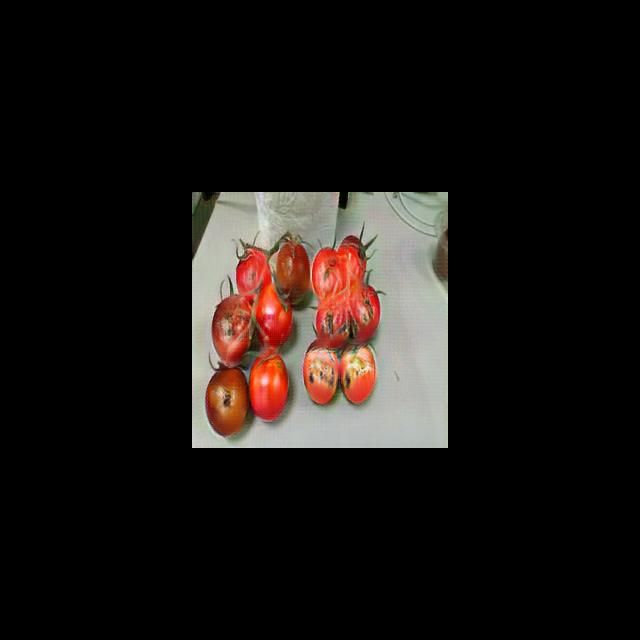tomato: (244, 353, 291, 422), (206, 368, 250, 437), (211, 294, 253, 360), (338, 342, 377, 406), (300, 347, 338, 403), (346, 286, 383, 341), (235, 249, 270, 294), (318, 297, 349, 342)
